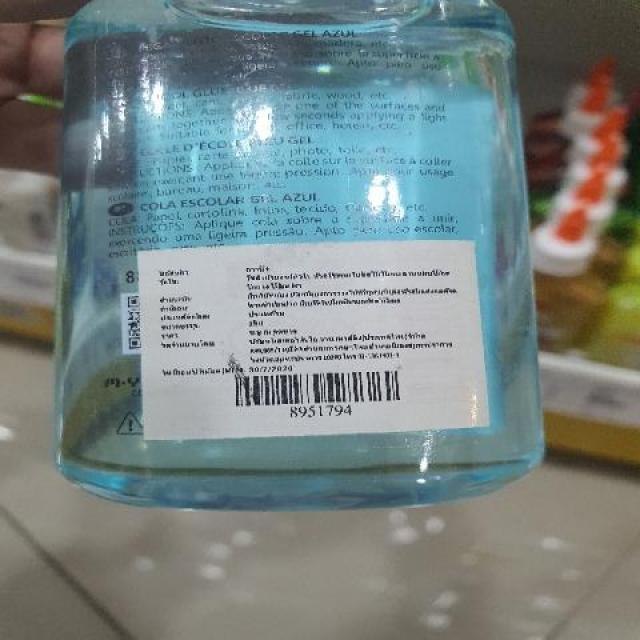Barcode: (228, 367, 413, 417)
